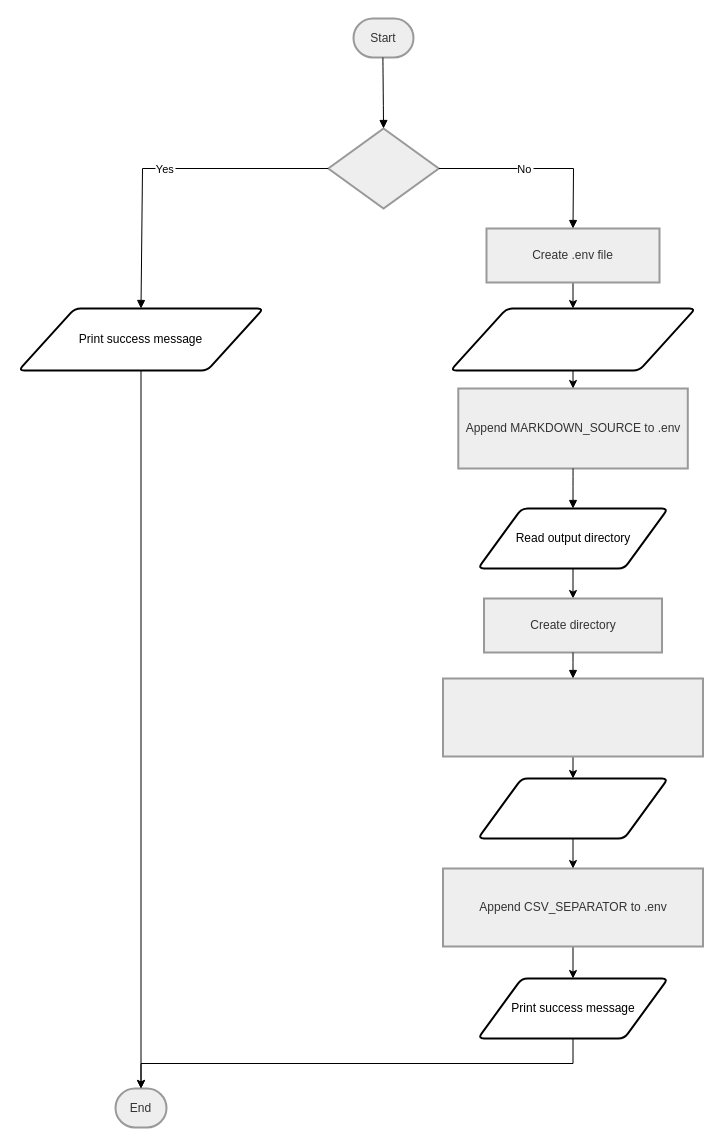
Image size: 721x1145. Some labels were removed from this diagram. The shapes that lost their labels are listed below. From the top down, each one's centre as x and y in pixels, then its label:
At (383,168): "ENV file exists?".
At (572,339): "Read Markdown source path".
At (573,717): "Append CSV_TARGET to .env".
At (572,808): "Read CSV seperator".
